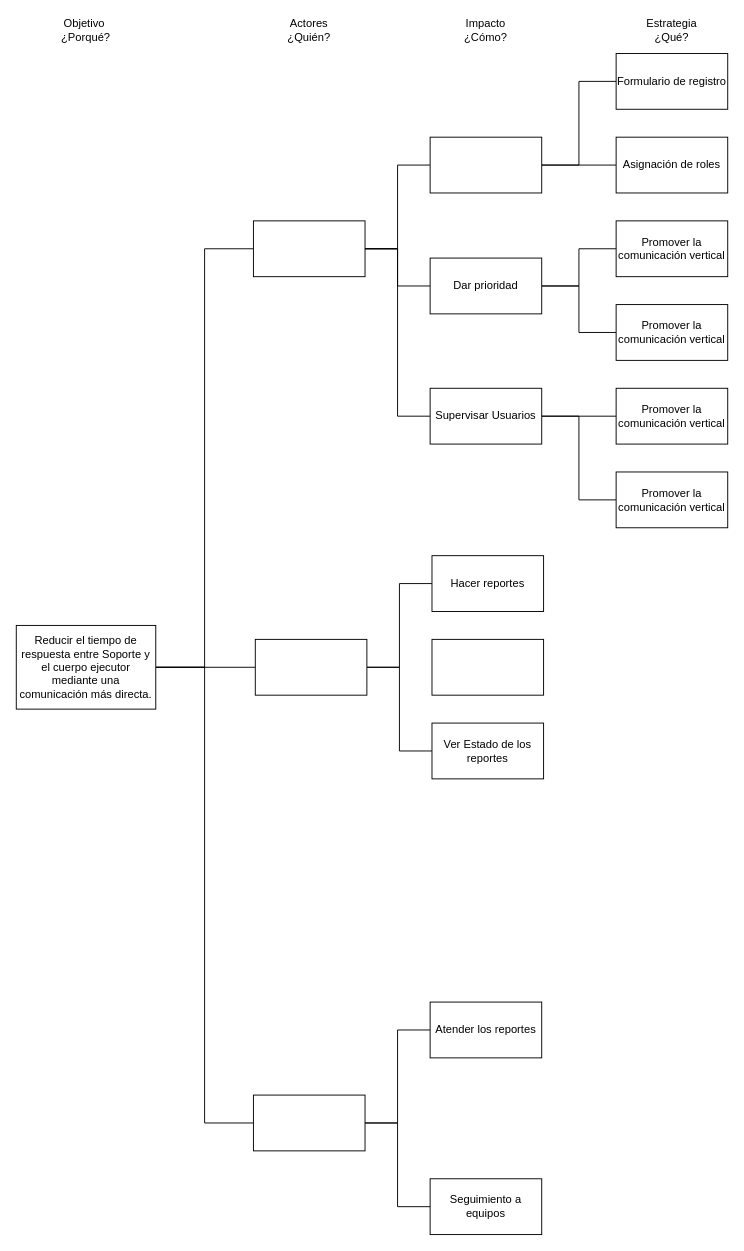
This 744x1251 diagram has some shape labels left out. The shapes that lost their labels are listed below. From the top down, each one's centre as x and y in pixels, then its label:
At point 485,164: "Crear Usuarios (Instructor, Soporte)".
At point 308,248: "Coordinador".
At point 310,666: "Instructor".
At point 487,666: "Ver historial de reportes".
At point 308,1122: "Soporte".
